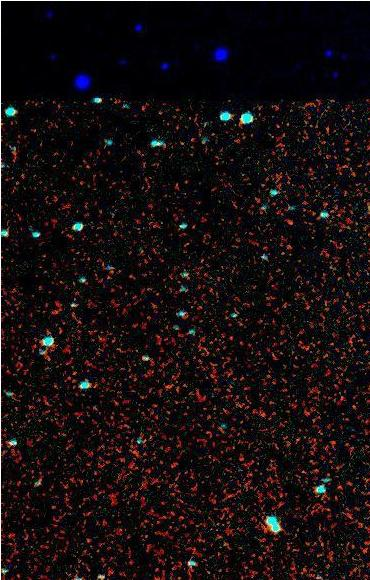star: (272, 210, 302, 240)
